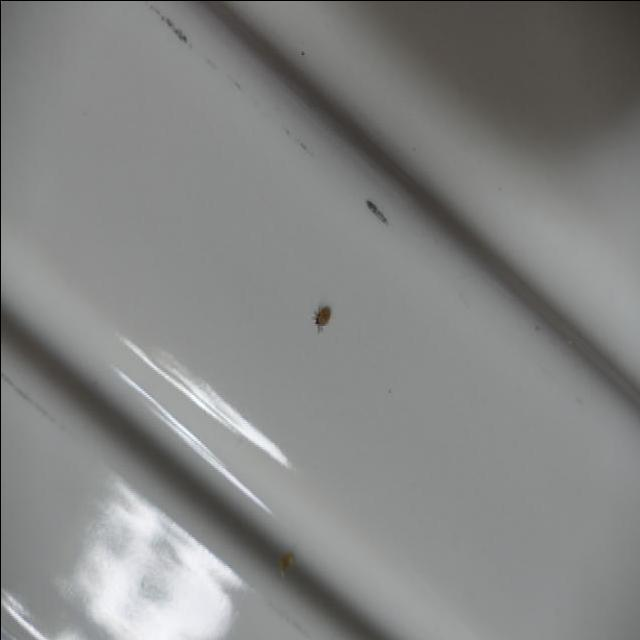Ixodes Ricinus-F: (310, 300, 333, 336)
